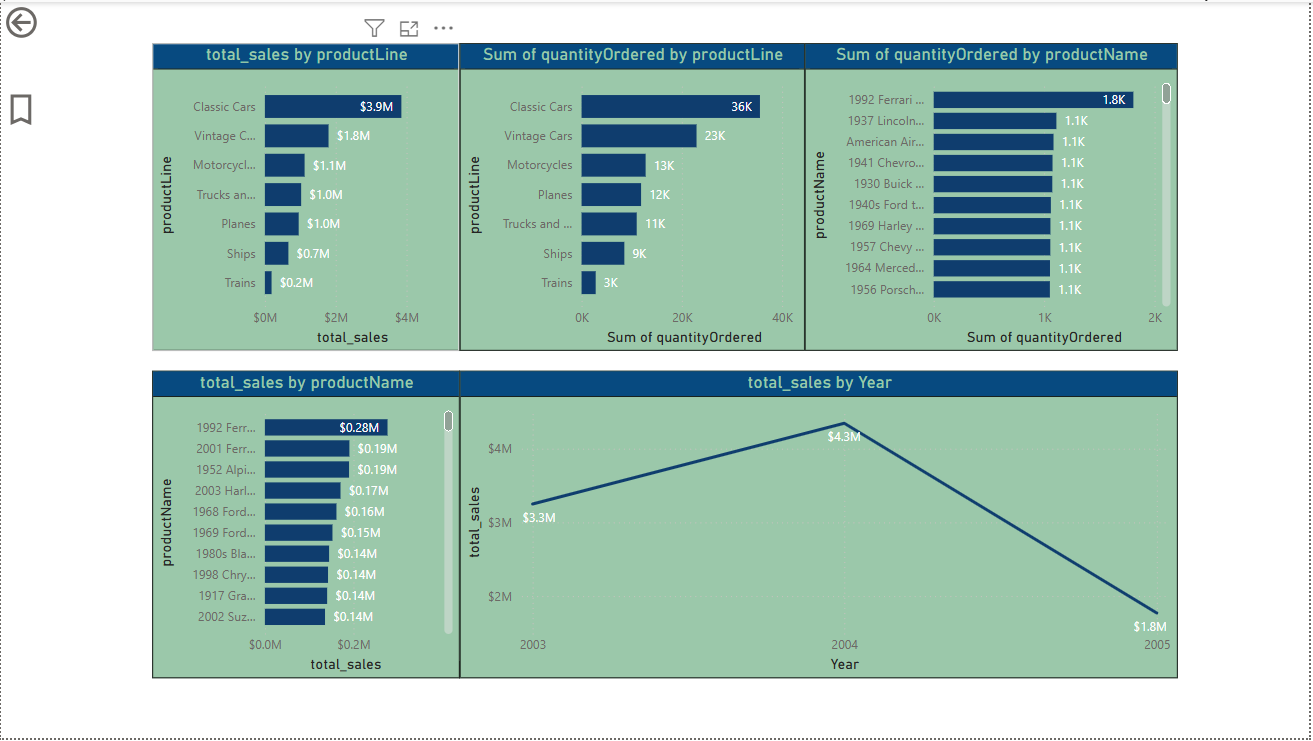

The page's visual inventory and layout, read from the dashboard file:
{"tool":"powerbi","page":{"name":"Page 2","canvas":[1280,720],"ordinal":2},"visuals":[{"type":"actionButton","box":[0,0,49.9,39.9],"z":0},{"type":"barChart","fields":{"Category":["products.productLine"],"Y":["products.total_sales"]},"box":[148.2,39.9,300.8,300.8],"z":1000},{"type":"barChart","fields":{"Category":["products.productLine"],"Y":["Sum(order details.quantityOrdered)"]},"box":[449,39.9,337.8,300.8],"z":2000},{"type":"barChart","fields":{"Y":["products.total_sales"],"Category":["products.productName"]},"box":[148.2,360.6,300.8,300.8],"z":3000},{"type":"barChart","fields":{"Y":["Sum(order details.quantityOrdered)"],"Category":["products.productName"]},"box":[786.8,39.9,364.9,300.8],"z":4000},{"type":"lineChart","fields":{"Category":["orders.orderDate.Variation.Date Hierarchy.Year","orders.orderDate.Variation.Date Hierarchy.Quarter","orders.orderDate.Variation.Date Hierarchy.Month","orders.orderDate.Variation.Date Hierarchy.Day"],"Y":["products.total_sales"]},"box":[449,360.6,702.7,300.8],"z":5000},{"type":"actionButton","box":[0,85.7,99.9,39.3],"z":6000}]}

Visuals, with their boxes in screenshot pixels (x1, y1, x2, y2):
actionButton: x1=3 y1=3 x2=54 y2=44
barChart - products.productLine x products.total_sales: x1=153 y1=44 x2=458 y2=348
barChart - products.productLine x Sum(order details.quantityOrdered): x1=458 y1=44 x2=799 y2=348
barChart - products.total_sales x products.productName: x1=153 y1=368 x2=458 y2=672
barChart - Sum(order details.quantityOrdered) x products.productName: x1=799 y1=44 x2=1168 y2=348
lineChart - orders.orderDate.Variation.Date Hierarchy.Year x orders.orderDate.Variation.Date Hierarchy.Quarter: x1=458 y1=368 x2=1168 y2=672
actionButton: x1=3 y1=90 x2=104 y2=130
